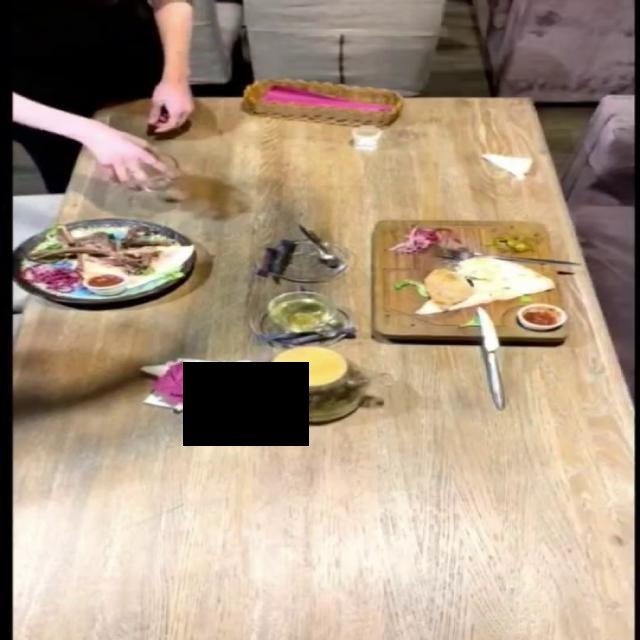meat: (365, 217, 565, 344), (5, 205, 217, 302)
tea: (258, 341, 362, 438)
